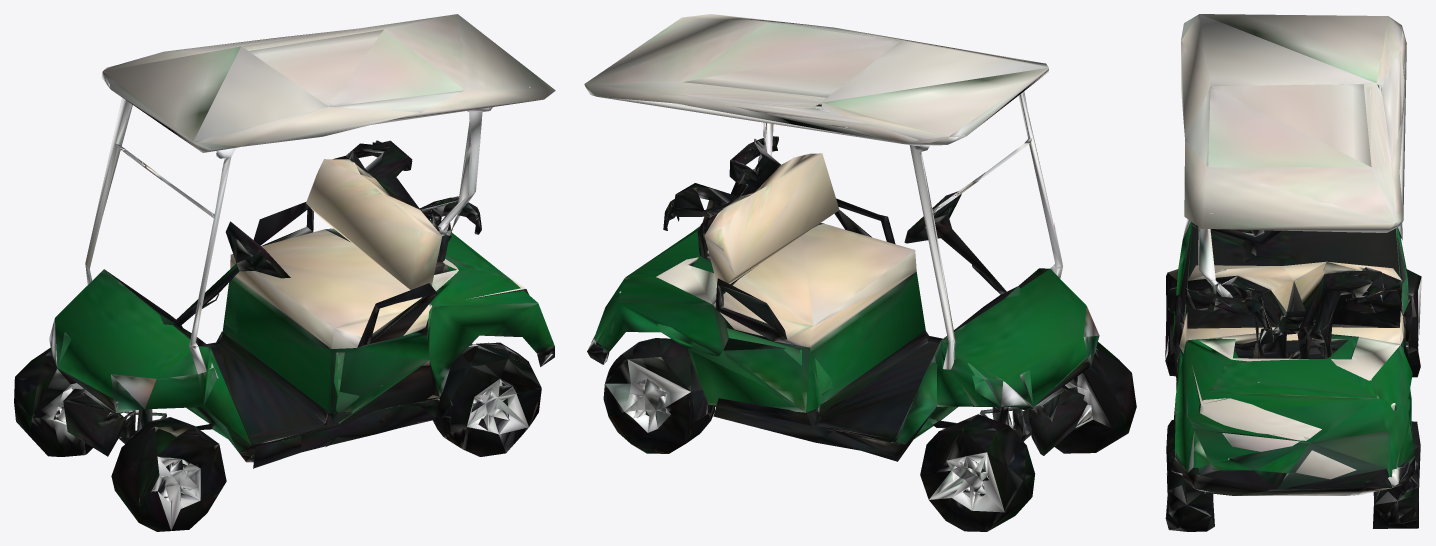
File: cart.glb
The picture shows the model from 3 angles, left to right: view 1: azimuth 30°, elevation 25°; view 2: azimuth 150°, elevation 25°; view 3: azimuth 270°, elevation 25°; orthographic projection.
Visible parts, largest first — view 1: LO.001; view 2: LO.001; view 3: LO.001.
Boxes of the visible parts, x1,y1,x2,y2 form: LO.001: (14,14,555,531); LO.001: (584,14,1136,531); LO.001: (1165,14,1421,531).
Bounding box in the file's own units: 1.92 × 1.53 × 0.9507.
1 material, 1 textured.
